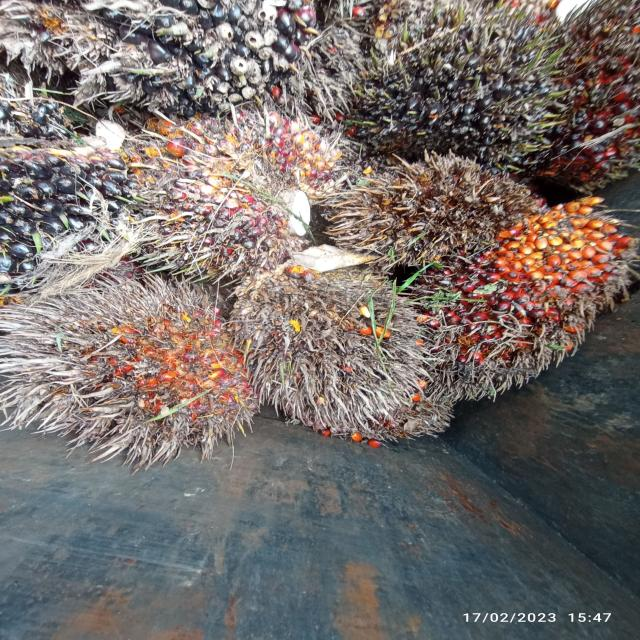fraksi 00: (120, 104, 361, 269), (363, 0, 556, 184), (0, 95, 146, 303)
fraksi 4: (11, 269, 322, 492), (438, 256, 587, 408), (478, 199, 640, 310)
